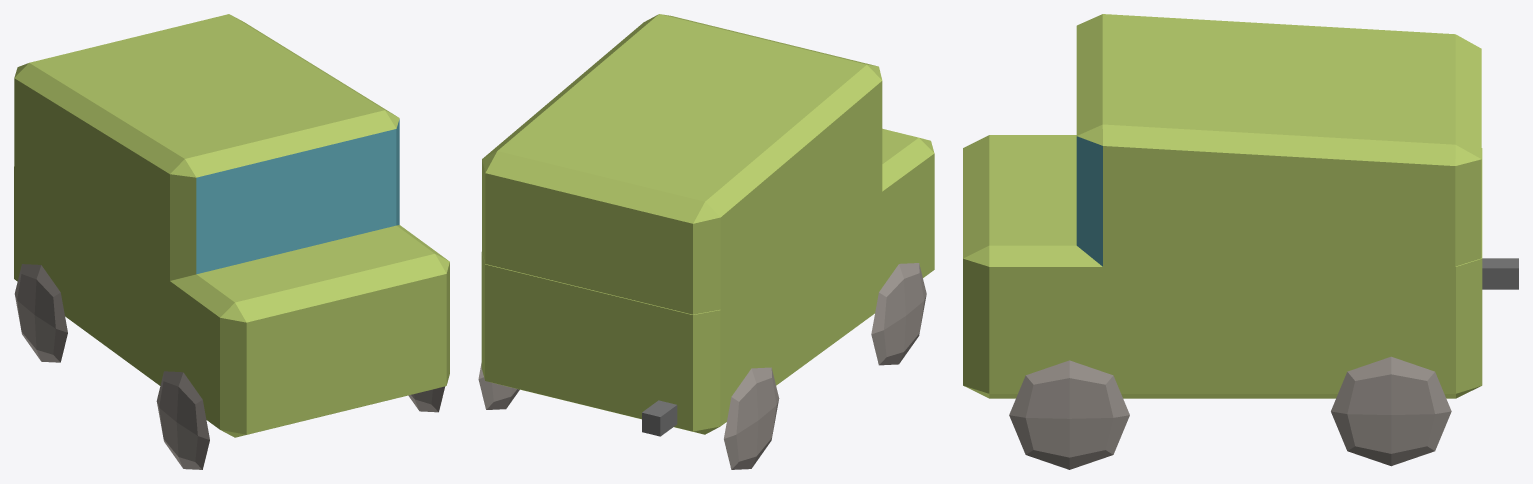
The model's file is Auto2.fbx.
3 views of the same model, side by side, from view 1: azimuth 30°, elevation 25°; view 2: azimuth 150°, elevation 25°; view 3: azimuth 270°, elevation 25° (orthographic). The views are drawn at different scales.
Visible parts, largest first — view 1: Cube.013, Cube.004, Cube.003, Cube.001; view 2: Cube.013, Cube.004, Cube.003, Cube.012, Cube.002; view 3: Cube.013, Cube.001, Cube.002, Cube.012.
Boxes of the visible parts, box(x1,y1,x2,y2) form: Cube.013: box(14, 14, 449, 437); Cube.004: box(156, 371, 209, 469); Cube.003: box(14, 264, 67, 362); Cube.001: box(408, 386, 445, 412); Cube.013: box(481, 14, 934, 434); Cube.004: box(871, 263, 926, 365); Cube.003: box(724, 367, 779, 469); Cube.012: box(642, 400, 677, 436); Cube.002: box(478, 363, 519, 409); Cube.013: box(963, 14, 1482, 398); Cube.001: box(1009, 360, 1129, 469); Cube.002: box(1331, 356, 1451, 466); Cube.012: box(1482, 258, 1518, 289).
Size of the model in its own units: 217 by 246 by 370.
